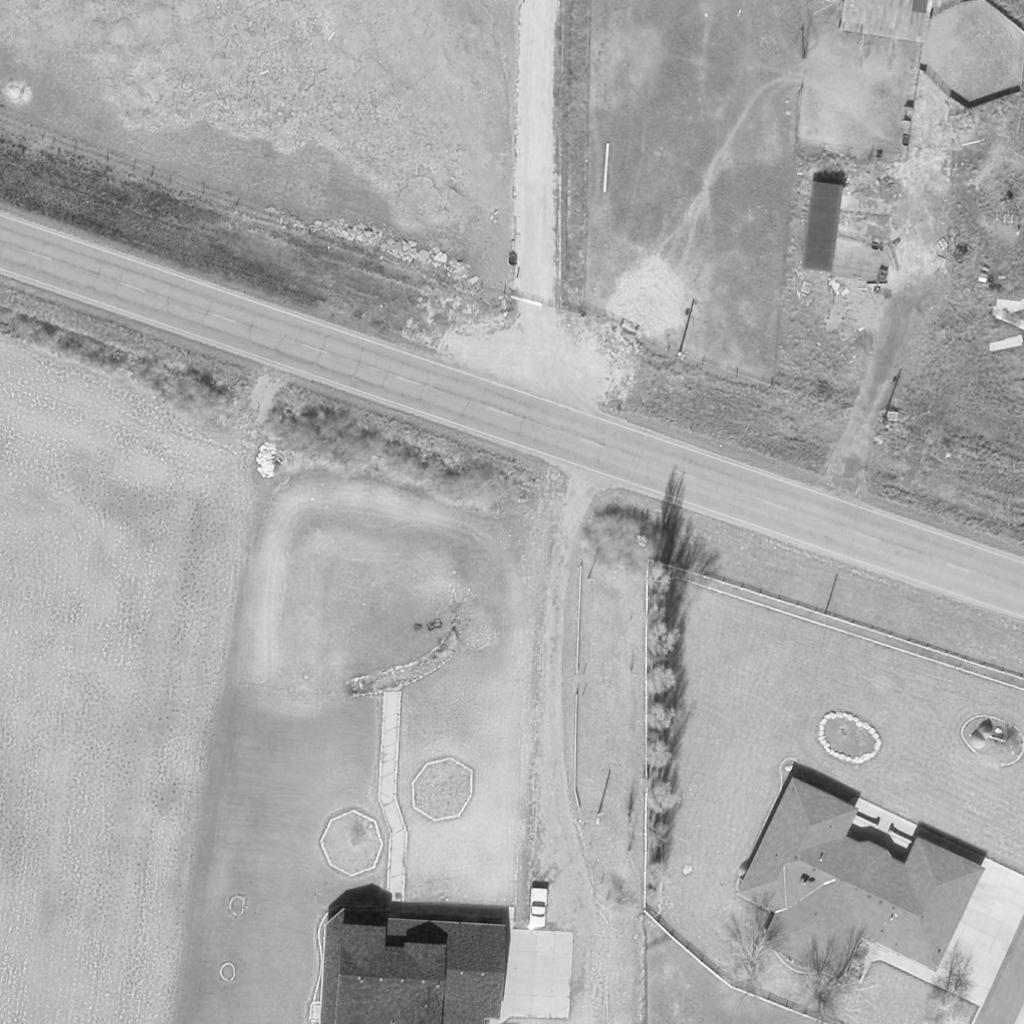vehicle: (529, 887, 551, 929)
